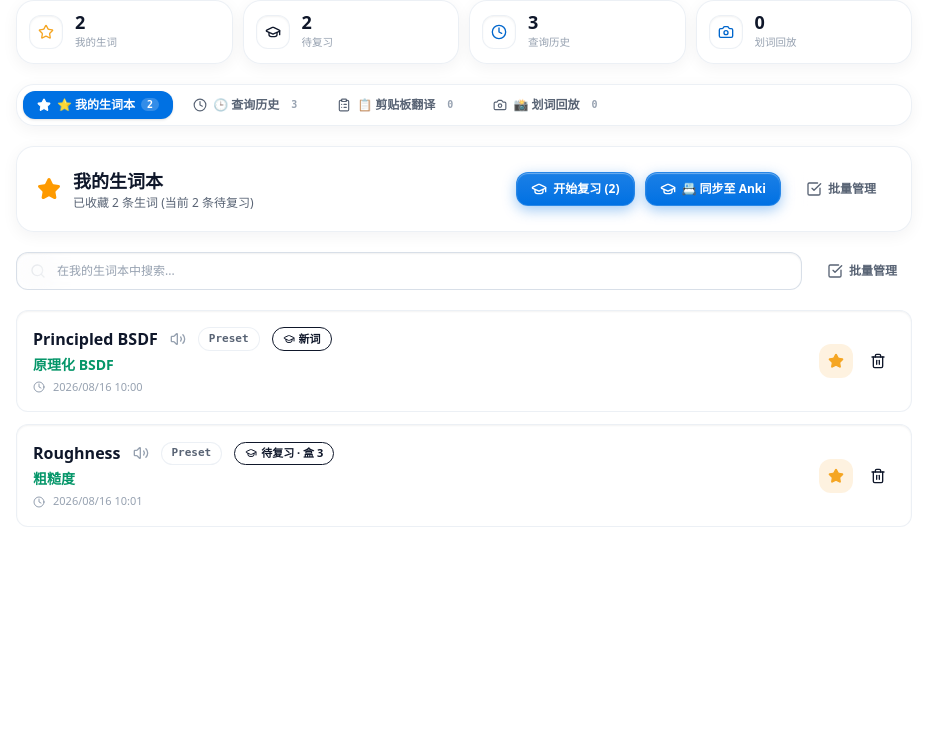
Test: vocabulary review mode (Leitner flashcards) › grading 不认识 resets the box to 0
The width and height of the screenshot is (929, 753).
Check: the text "Roughness" is shown, box [33,441,120,465]
Click the button "开始复习 (2)". click: (575, 189)
box: [516,172,634,206]
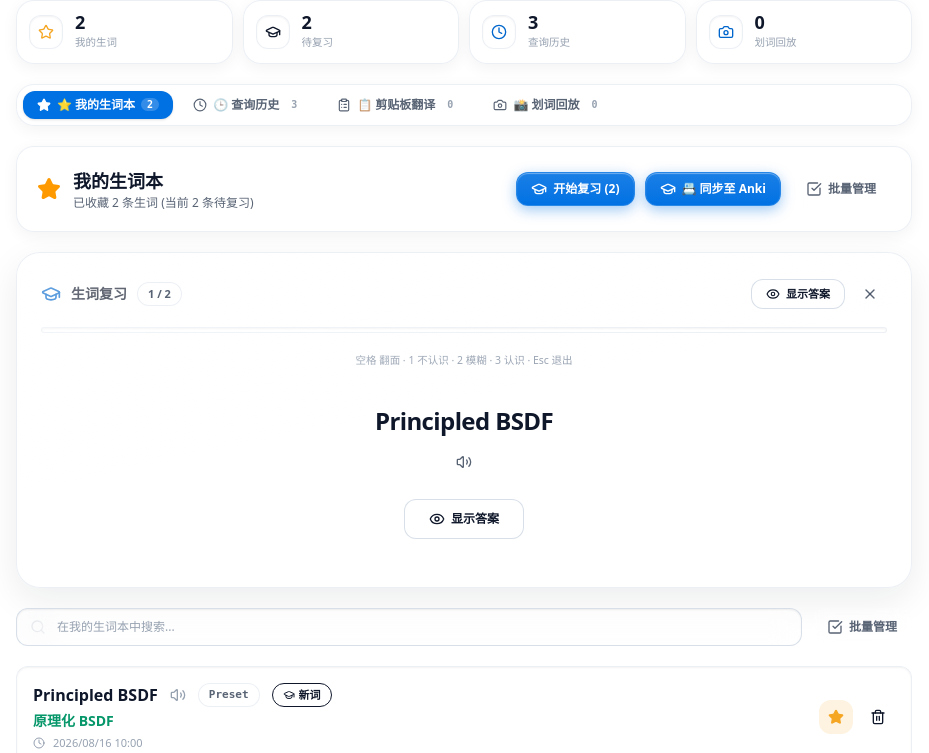
Check: the heading "生词复习" is shown, box [71,284,127,304]
Check: the text "1 / 2" is shown, box [137,282,182,306]
Press Space
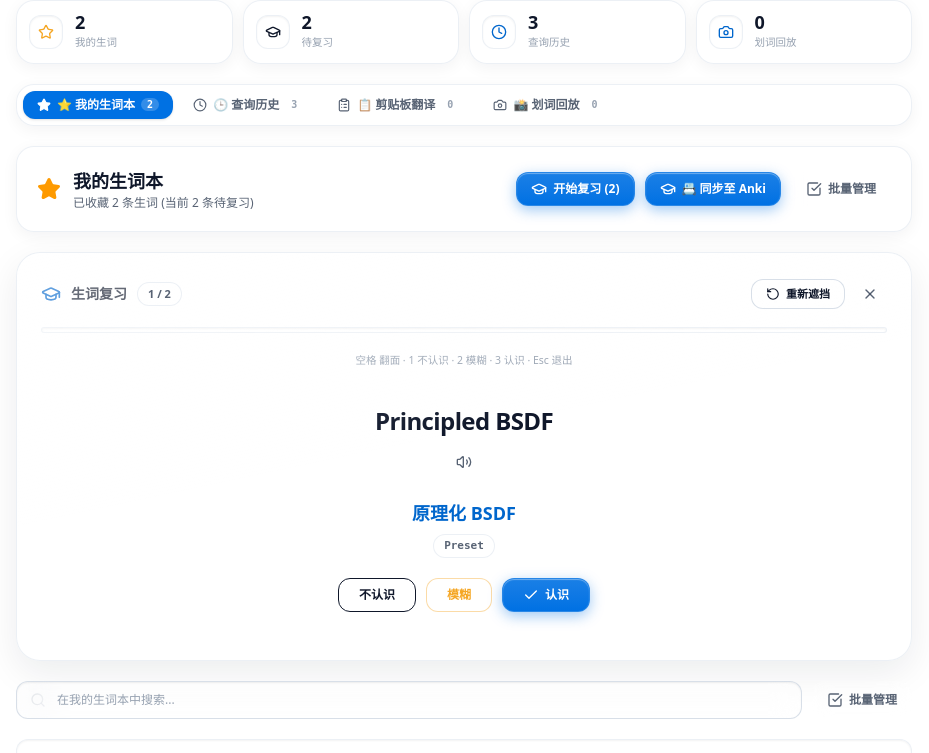
Check: the text "不认识" is shown, box [359,586,395,604]
Press 1
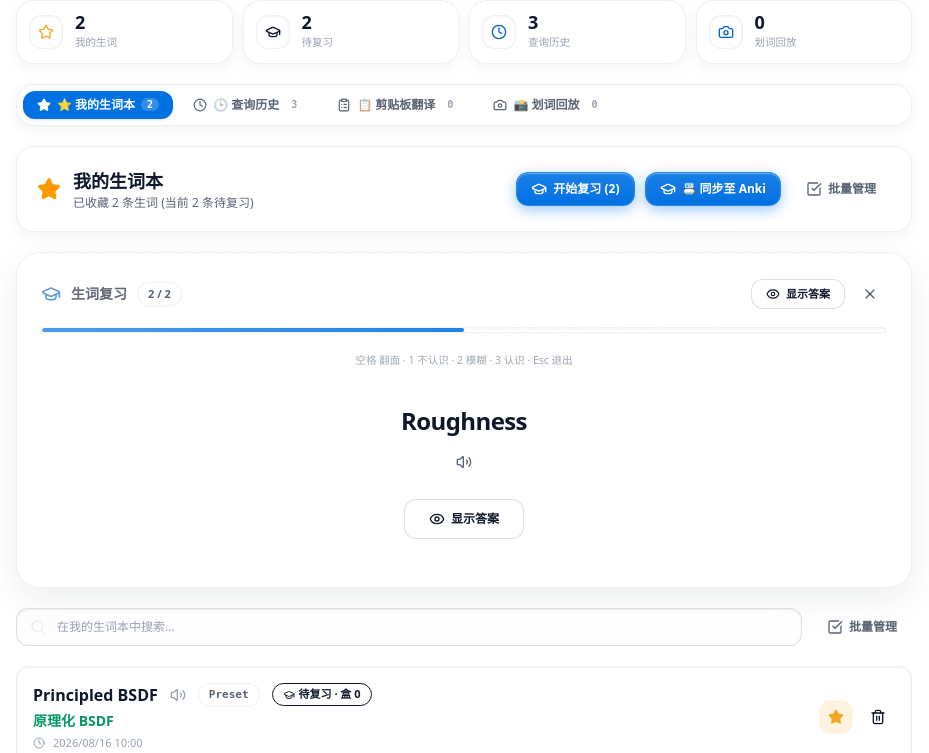
Check: the text "2 / 2" is shown, box [137,282,182,306]
Press Space
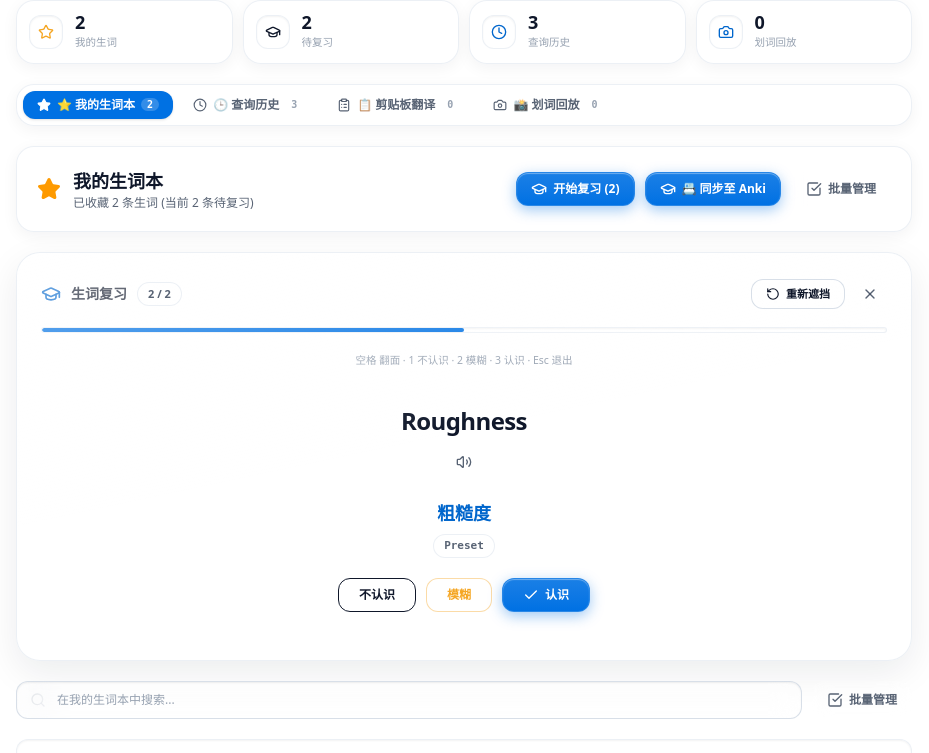
Check: the text "不认识" is shown, box [359,586,395,604]
Press 1
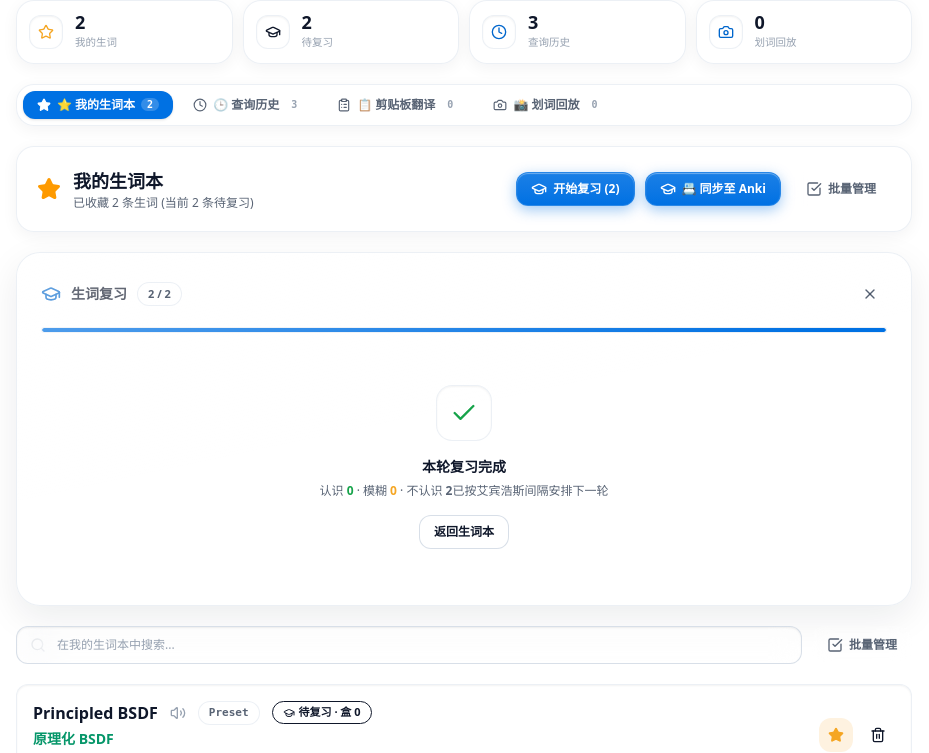
Check: the heading "本轮复习完成" is shown, box [422,457,506,476]
